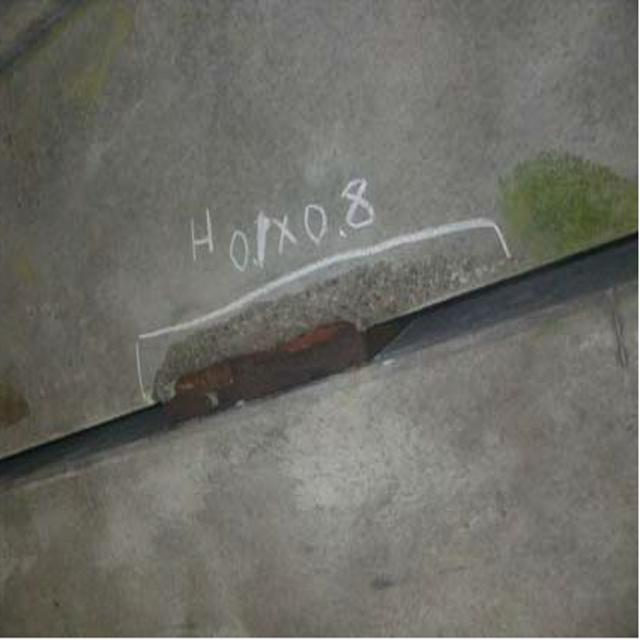spalling: (121, 220, 513, 434)
